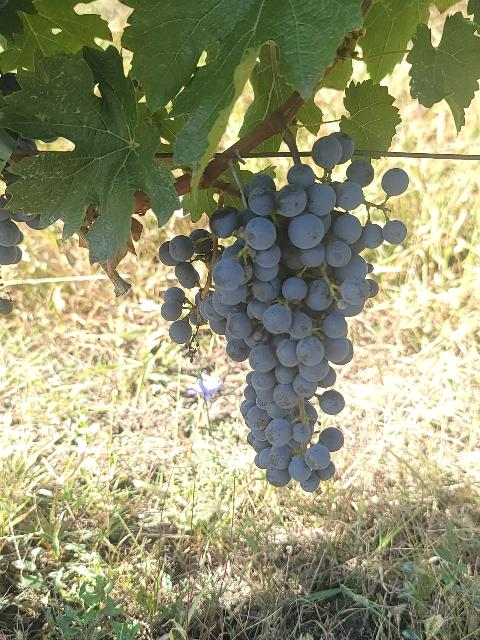grapes: (159, 132, 409, 491)
